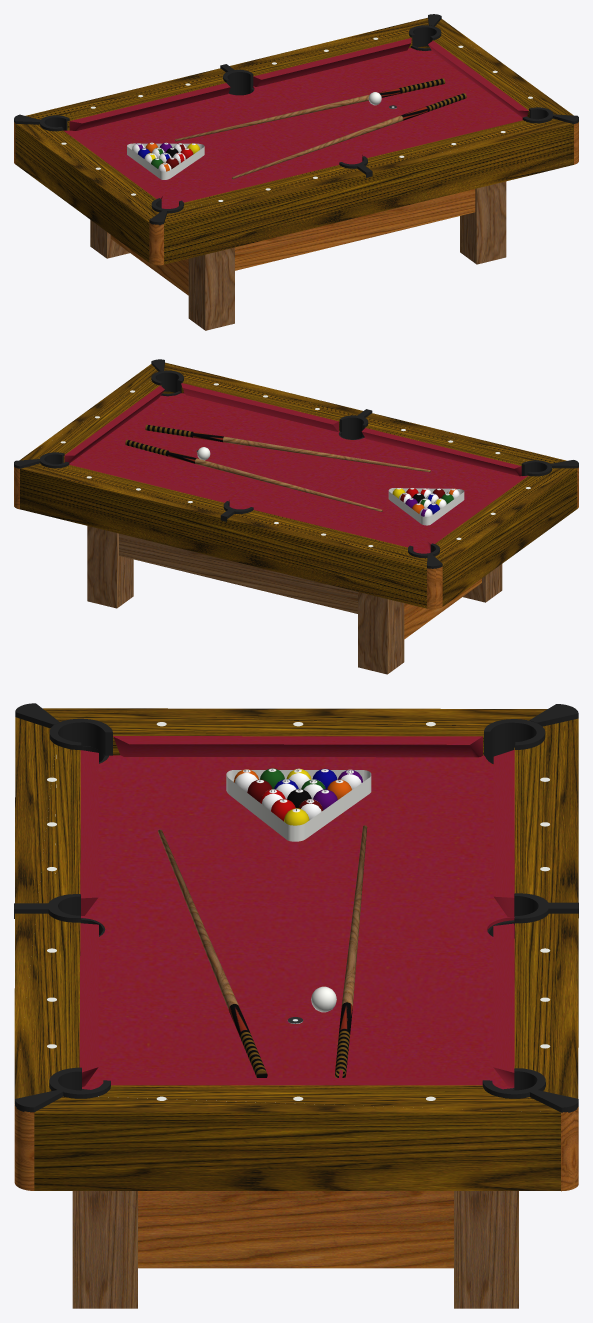
File: pool_table.glb
3 views of the same model, one above another, from view 1: azimuth 30°, elevation 25°; view 2: azimuth 150°, elevation 25°; view 3: azimuth 270°, elevation 25° (orthographic). The views are drawn at different scales.
Visible parts, largest first — view 1: Geom3D (×10); view 2: Geom3D (×10); view 3: Geom3D (×11).
Boxes of the visible parts, bbox=[...] form: Geom3D (×10): bbox=[14, 14, 578, 330]; Geom3D (×10): bbox=[14, 359, 578, 674]; Geom3D (×11): bbox=[14, 703, 578, 1308].
Size of the model in its own units: 2.14 by 0.6387 by 1.26.
Materials: 23 (21 with a texture image).
